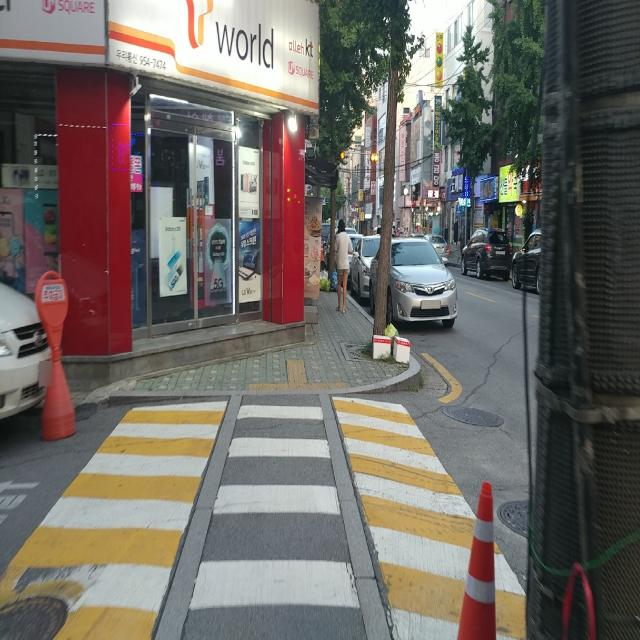횡단보도: (189, 406, 361, 609)
